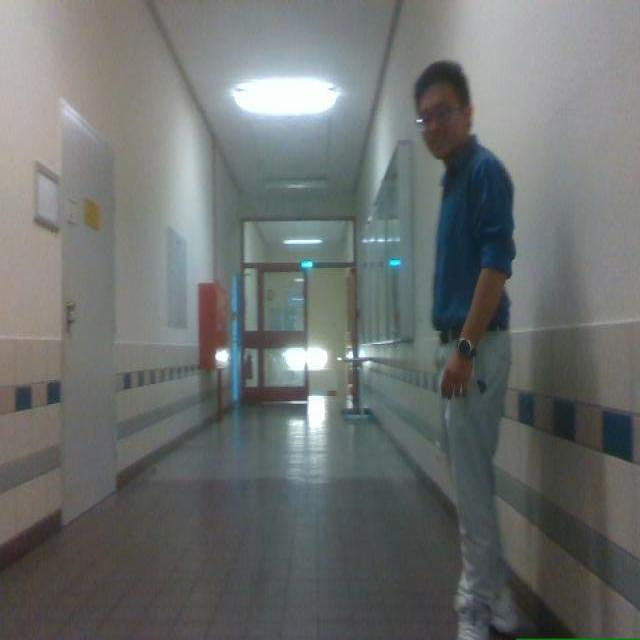humans: (415, 61, 518, 639)
